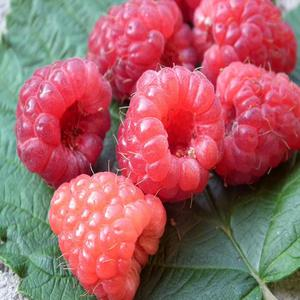raspb: (20, 14, 300, 212)
